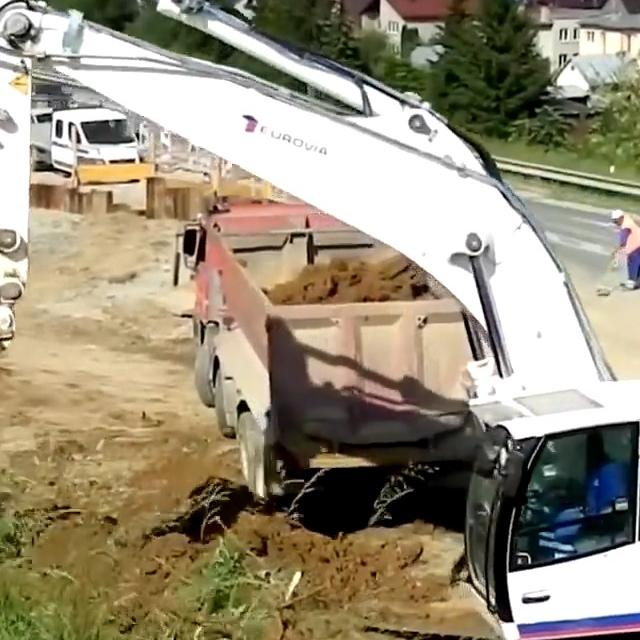Excavator: (0, 0, 640, 640)
Hardhat: (610, 209, 624, 219)
NO-Safety Vest: (586, 471, 621, 506)
Person: (550, 448, 631, 538), (607, 207, 640, 290)
Safety Vest: (621, 216, 640, 254)
dump truck: (173, 191, 473, 511)
vehicle: (54, 107, 138, 181), (26, 106, 53, 168)
